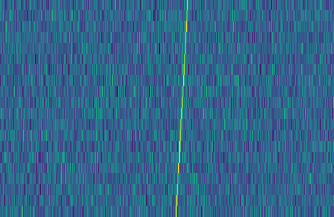signal: (171, 0, 192, 217)
